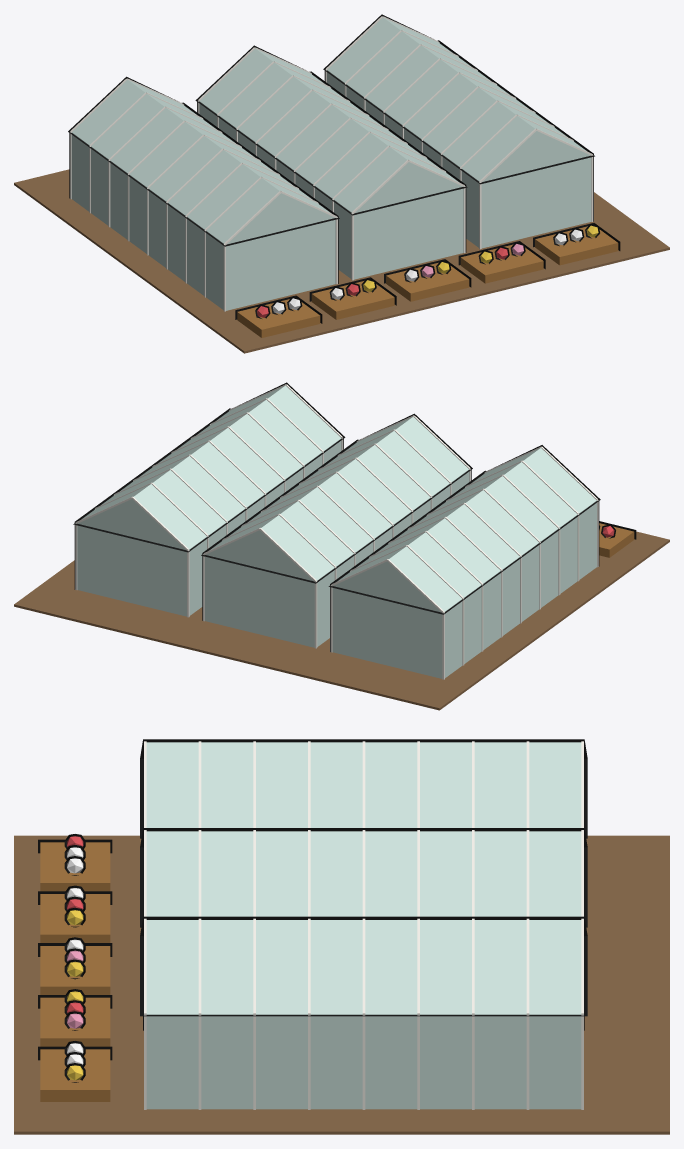
The model's file is Sanayi_sera_1.fbx.
3 renders of one model, top to bottom at view 1: azimuth 30°, elevation 25°; view 2: azimuth 150°, elevation 25°; view 3: azimuth 270°, elevation 25°, orthographic. The views are drawn at different scales.
Visible parts, largest first — view 1: Sanayi_sera_1; view 2: Sanayi_sera_1; view 3: Sanayi_sera_1.
Boxes of the visible parts, x1=… form: Sanayi_sera_1: x1=14, y1=14, x2=669, y2=353; Sanayi_sera_1: x1=14, y1=382, x2=669, y2=710; Sanayi_sera_1: x1=14, y1=739, x2=669, y2=1134.
Bounding box in the file's own units: 16 × 3.96 × 15.
